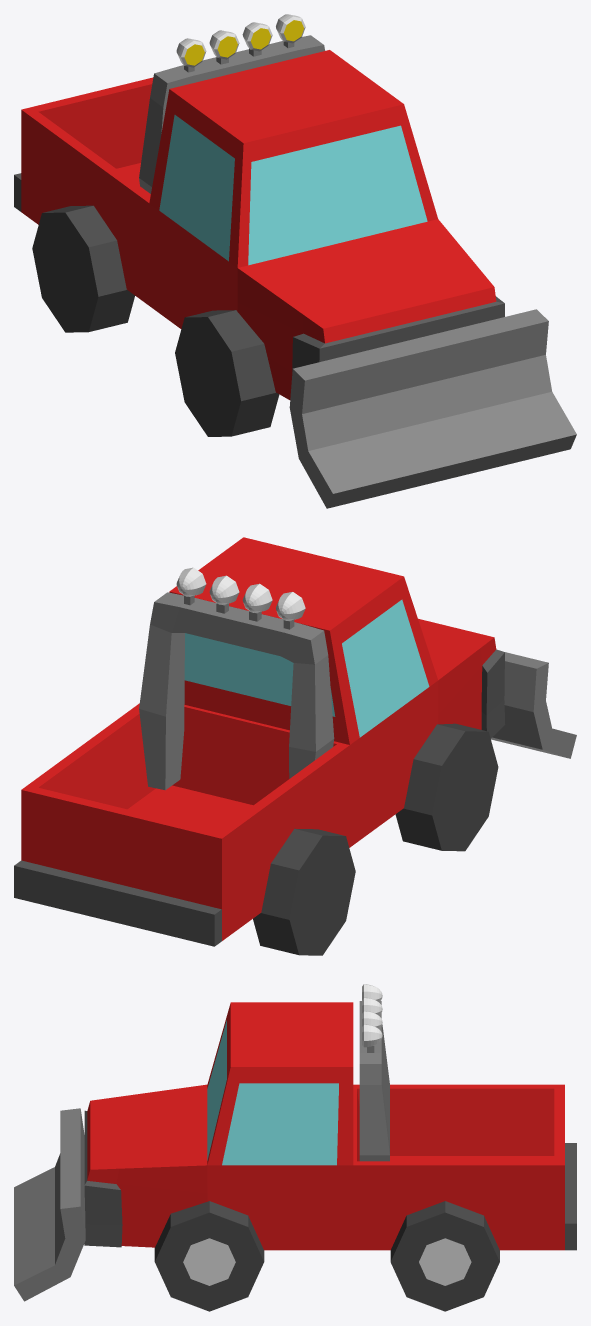
File: Barredora.fbx
3 views of the same model, one above another, from view 1: azimuth 30°, elevation 25°; view 2: azimuth 150°, elevation 25°; view 3: azimuth 270°, elevation 25° (orthographic). The views are drawn at different scales.
Visible parts, largest first — view 1: Cube, Cylinder, Cylinder.003, Cylinder.004, Cube.001, Sphere; view 2: Cube, Cube.001, Cylinder.003, Cylinder.004, Cylinder, Sphere; view 3: Cube, Cylinder, Cylinder.001, Cylinder.002, Cube.001, Sphere.
Part boxes in pixels (bbox=[...]): Cube: bbox=[14, 50, 504, 399]; Cylinder: bbox=[289, 309, 576, 508]; Cylinder.003: bbox=[175, 310, 279, 436]; Cylinder.004: bbox=[32, 205, 134, 332]; Cube.001: bbox=[139, 35, 325, 193]; Sphere: bbox=[176, 14, 305, 67]; Cube: bbox=[14, 537, 505, 946]; Cube.001: bbox=[139, 592, 334, 790]; Cylinder.003: bbox=[395, 723, 498, 851]; Cylinder.004: bbox=[253, 828, 355, 955]; Cylinder: bbox=[491, 652, 576, 758]; Sphere: bbox=[176, 567, 305, 620]; Cube: bbox=[84, 1002, 576, 1250]; Cylinder: bbox=[14, 1108, 85, 1301]; Cylinder.001: bbox=[154, 1201, 264, 1311]; Cylinder.002: bbox=[390, 1201, 499, 1311]; Cube.001: bbox=[359, 1001, 389, 1161]; Sphere: bbox=[362, 984, 382, 1047].
Bounding box in the file's own units: 361 × 413 × 826.
